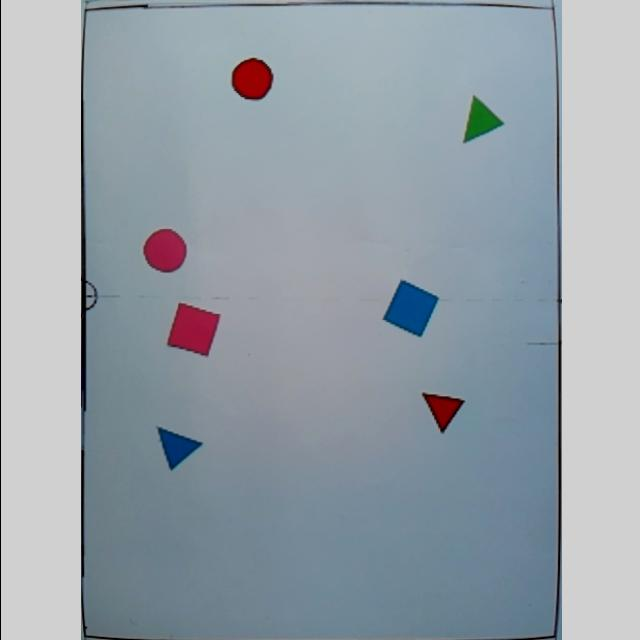blueSquare: (379, 280, 437, 338)
blueTriangle: (154, 424, 202, 470)
greenTriangle: (459, 94, 503, 144)
pinkCircle: (141, 228, 185, 274)
pinkSquare: (164, 302, 218, 358)
redCircle: (228, 58, 272, 102)
redTriangle: (420, 392, 464, 434)
